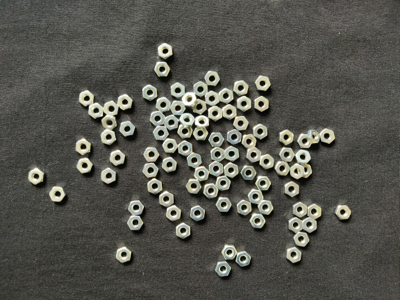nut: (28, 168, 45, 185), (49, 187, 66, 203), (128, 200, 145, 216), (116, 247, 132, 264), (286, 247, 302, 264), (77, 158, 93, 174), (88, 103, 104, 119), (120, 121, 136, 137), (110, 150, 126, 166), (143, 163, 159, 179), (162, 157, 178, 173), (233, 116, 249, 132), (248, 189, 264, 205), (216, 261, 232, 277), (236, 251, 252, 267), (320, 129, 336, 145), (118, 94, 133, 111), (143, 85, 158, 102), (154, 62, 171, 77), (158, 43, 173, 60), (159, 191, 174, 208), (143, 147, 160, 162), (179, 113, 196, 128), (204, 183, 219, 200), (234, 80, 249, 97), (237, 200, 252, 217), (335, 205, 352, 220), (76, 138, 90, 156), (79, 91, 94, 107), (102, 115, 117, 131), (101, 130, 116, 146), (128, 216, 144, 231), (176, 223, 191, 239), (167, 206, 182, 222), (148, 179, 163, 195), (153, 126, 169, 141), (150, 111, 165, 127), (156, 97, 171, 113), (191, 206, 206, 222), (164, 115, 179, 131), (171, 83, 186, 99), (186, 179, 202, 194), (194, 167, 210, 182), (178, 141, 193, 157), (187, 153, 202, 169), (205, 71, 220, 87), (205, 91, 220, 107), (210, 147, 225, 163), (209, 161, 224, 177), (216, 198, 232, 213), (219, 88, 234, 104), (224, 163, 239, 179), (225, 147, 240, 163), (237, 96, 252, 112), (256, 76, 271, 92), (247, 148, 262, 164), (241, 166, 257, 181), (222, 245, 238, 260), (258, 200, 274, 215), (255, 176, 271, 191), (279, 130, 294, 146), (295, 150, 311, 165), (293, 202, 308, 218), (294, 232, 310, 247), (102, 168, 116, 185), (194, 81, 208, 98), (255, 96, 269, 113), (285, 181, 299, 198), (104, 101, 119, 116), (171, 101, 186, 116), (182, 93, 197, 108), (216, 176, 231, 191), (227, 130, 242, 145), (242, 135, 257, 150), (275, 162, 290, 177), (177, 125, 193, 139), (193, 99, 207, 115), (209, 106, 223, 122), (209, 133, 225, 147), (254, 124, 268, 140), (250, 214, 266, 228), (260, 154, 274, 170), (279, 148, 295, 162), (297, 164, 313, 178), (289, 218, 303, 234), (303, 218, 317, 234), (308, 204, 322, 220), (163, 139, 178, 153), (195, 116, 210, 130), (223, 105, 237, 120), (297, 134, 312, 148), (193, 128, 209, 141), (291, 164, 304, 180), (308, 130, 320, 144)
